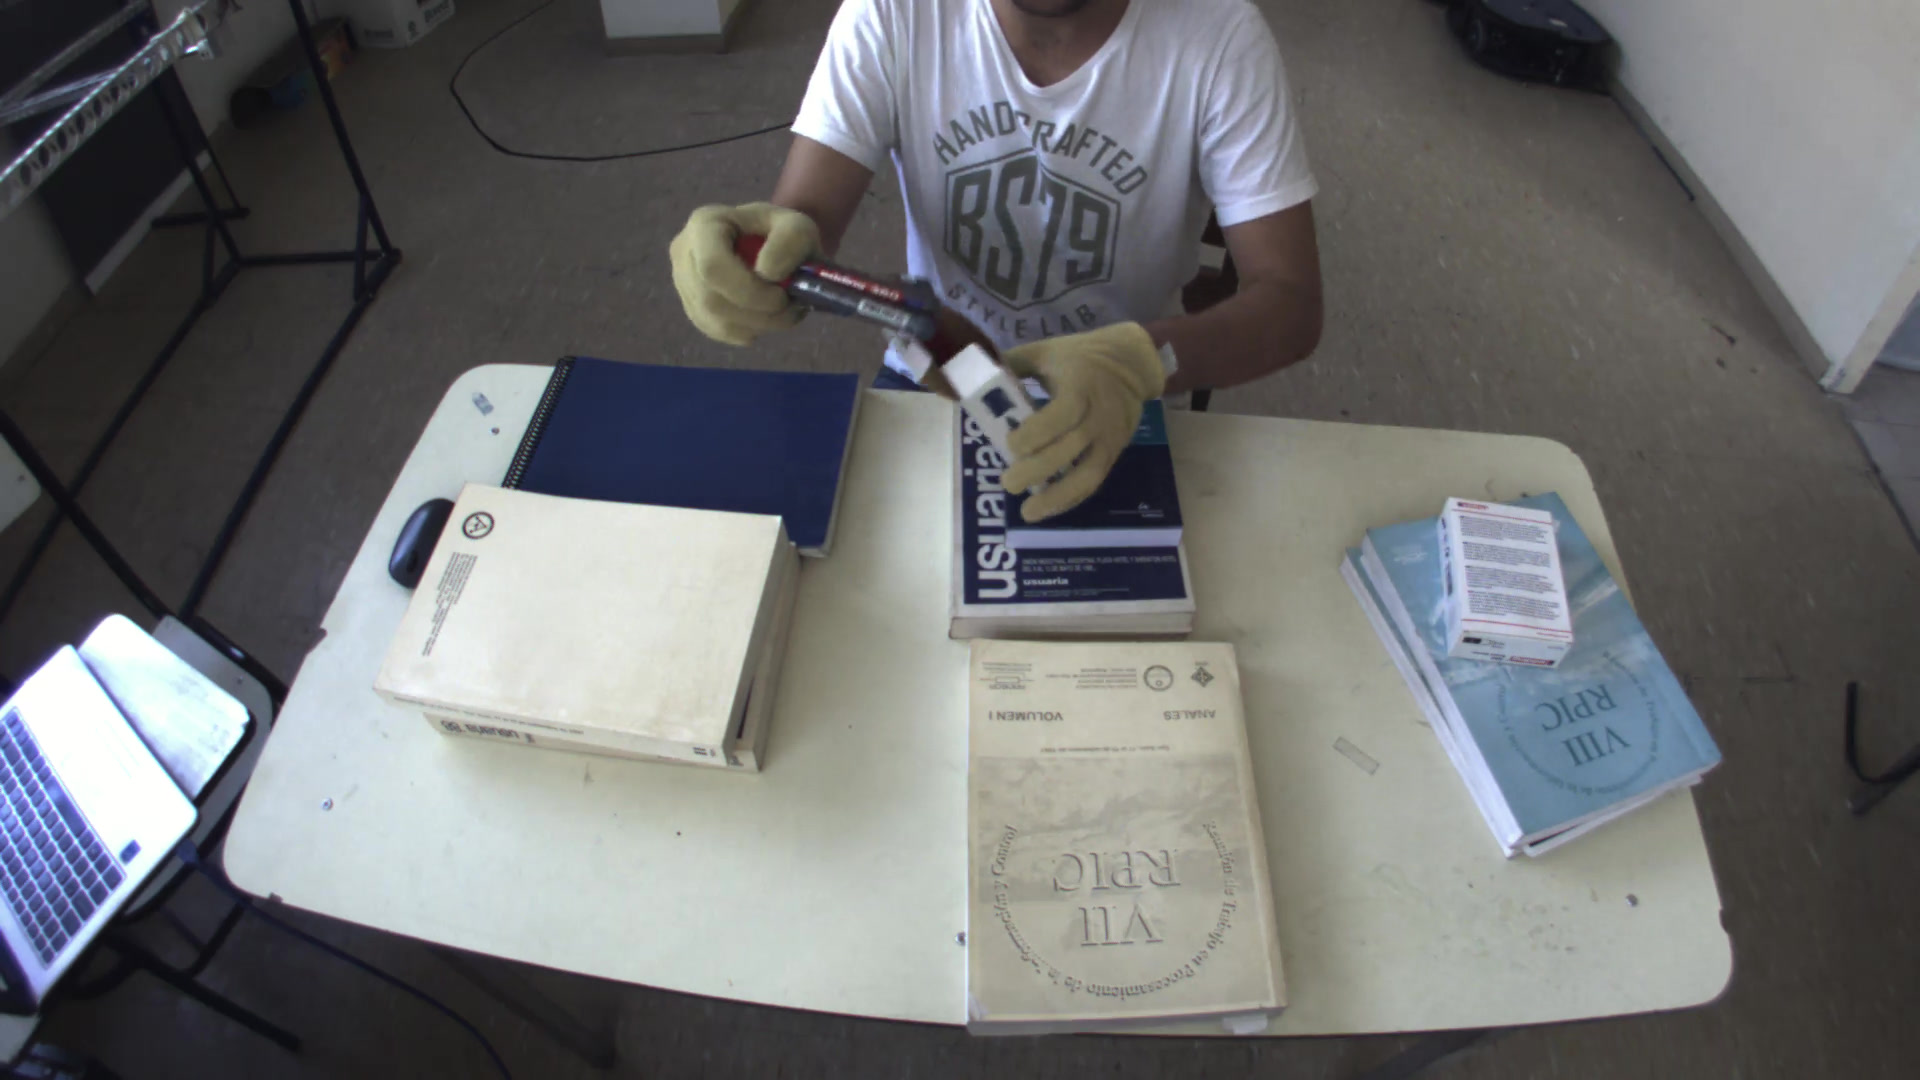hand: (985, 301, 1179, 529), (650, 190, 822, 348)
